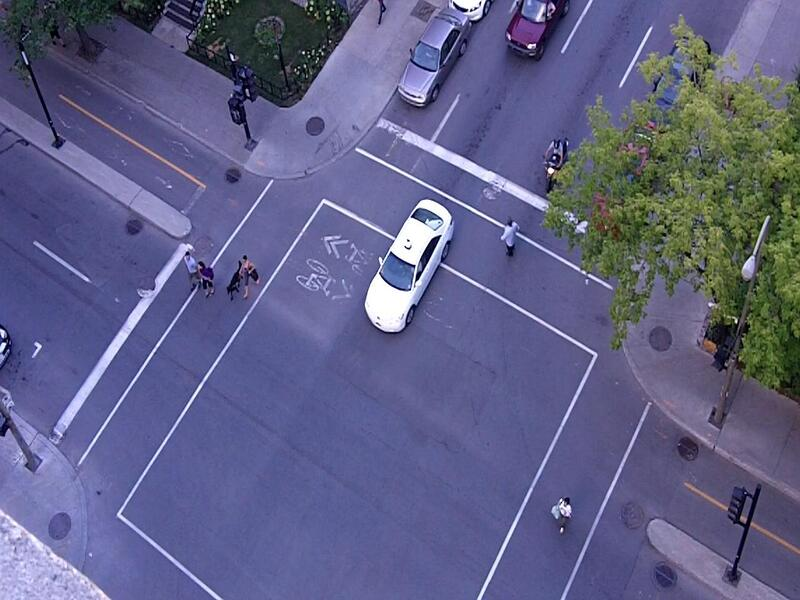car: (364, 199, 454, 333)
